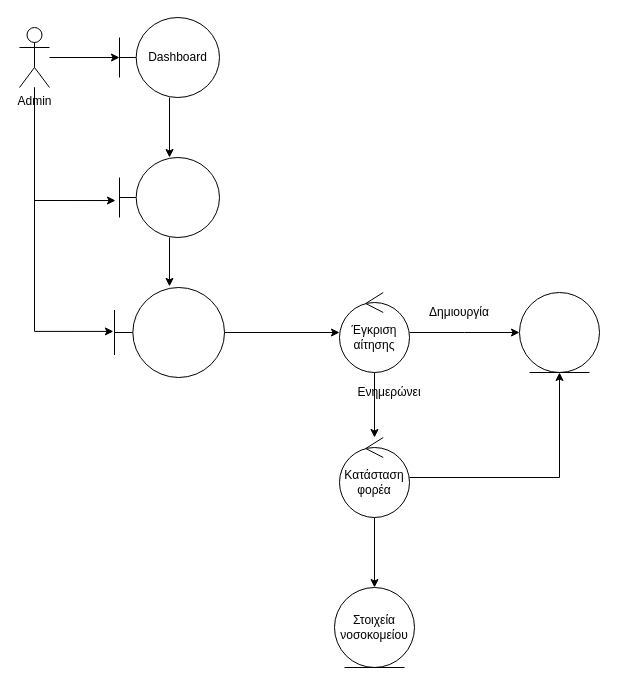
Some shapes in this 617 by 685 pixel diagram are drawn without their labels. The shapes that lost their labels are listed below. From the top down, each one's box as (x1, y1, x2, y2) in pixels, then its label:
(118, 156, 220, 238): Προβολή αίτησης
(114, 286, 224, 378): Επαλήθευση Δικαιωλογιτικών
(518, 292, 600, 372): Λογαριασμός Φορέα
